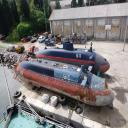submarine: (11, 59, 116, 110), (26, 43, 109, 76)
